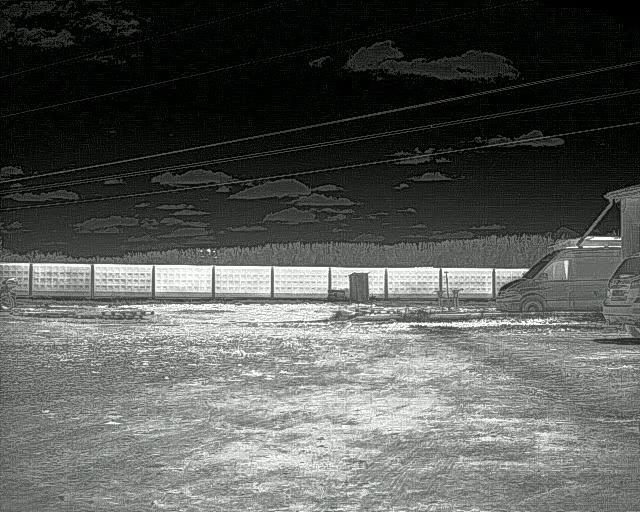drone-thermal: (199, 247, 218, 260)
